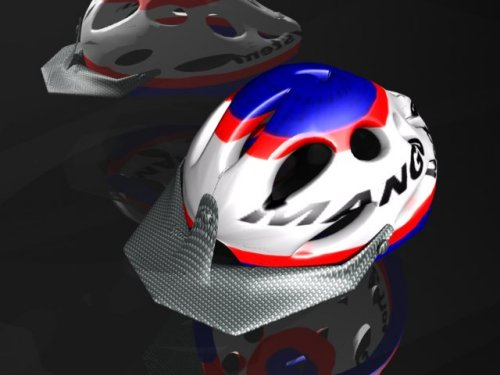helmet: (180, 60, 443, 267)
